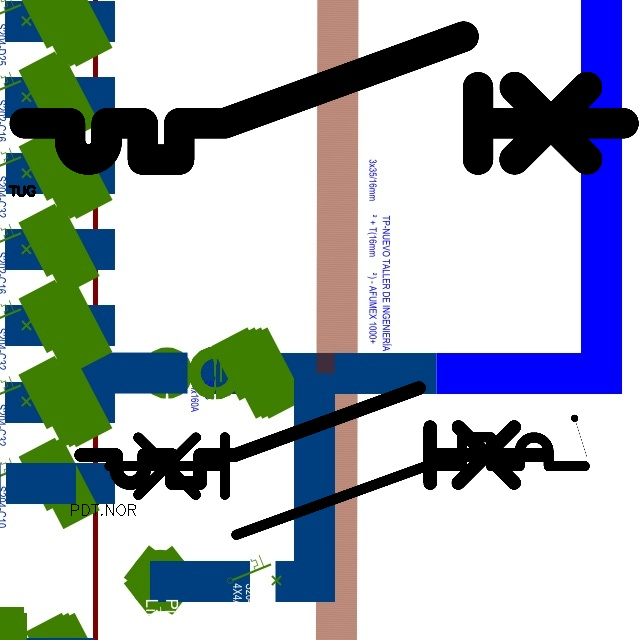interruptor_termomagnetico: (9, 21, 639, 175), (97, 425, 597, 547), (69, 376, 554, 495)
